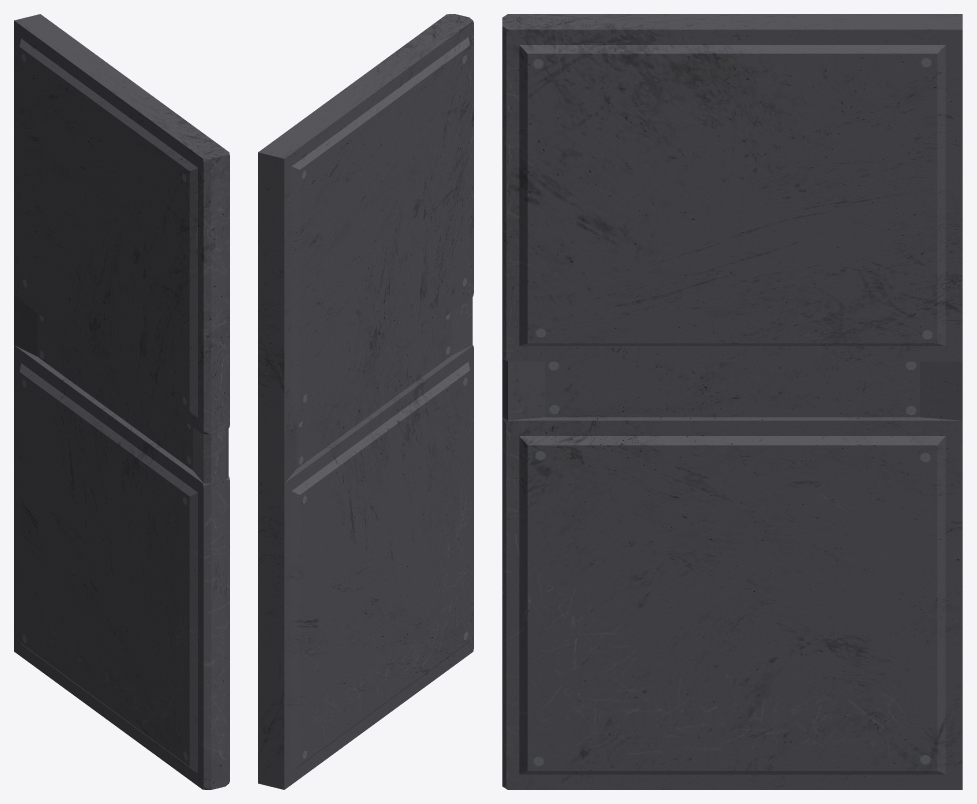
The model's file is starship_door.fbx.
3 renders of one model, left to right at view 1: azimuth 30°, elevation 25°; view 2: azimuth 150°, elevation 25°; view 3: azimuth 270°, elevation 25°, orthographic. The views are drawn at different scales.
Visible parts, largest first — view 1: starship_door; view 2: starship_door; view 3: starship_door.
Part boxes in pixels (box(x1,y1,x2,y2)): starship_door: box(14, 14, 229, 789); starship_door: box(258, 14, 473, 789); starship_door: box(502, 14, 962, 789).
Bounding box in the file's own units: 0.0883 × 1.47 × 0.8065.
1 material, 1 textured.
